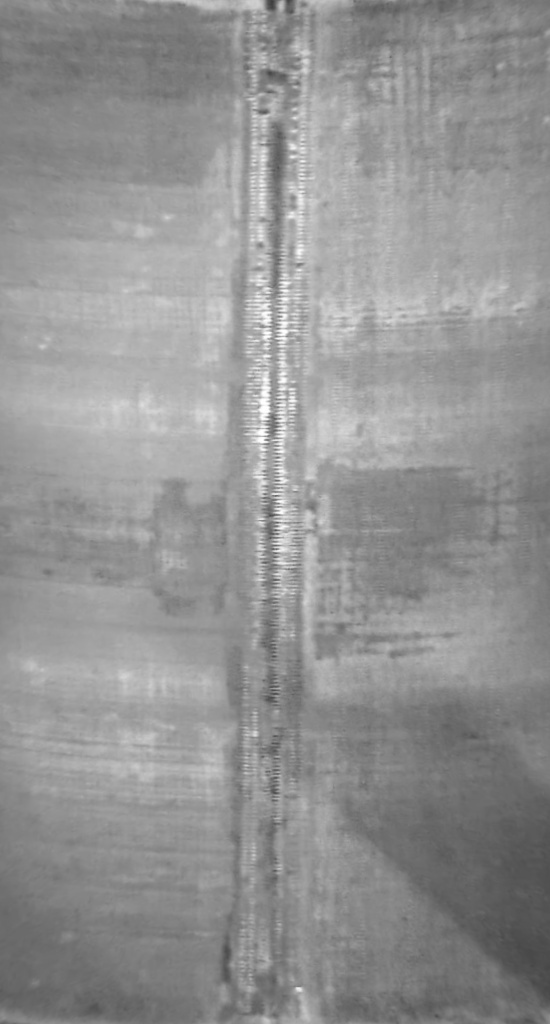splice: (233, 1, 320, 1024)
